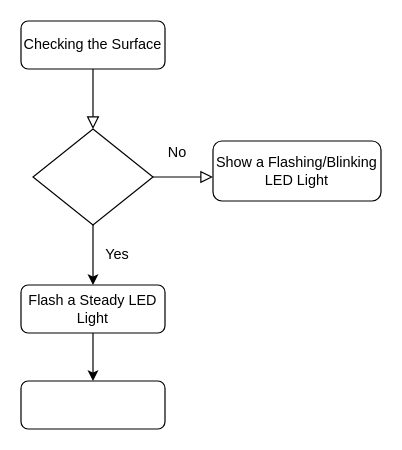
This 402x450 diagram has some shape labels left out. Each missing label, with the centre of its shape:
"Alarm using the Buzzer" goes at point (92, 404).
"Flat Surface" goes at point (92, 176).
